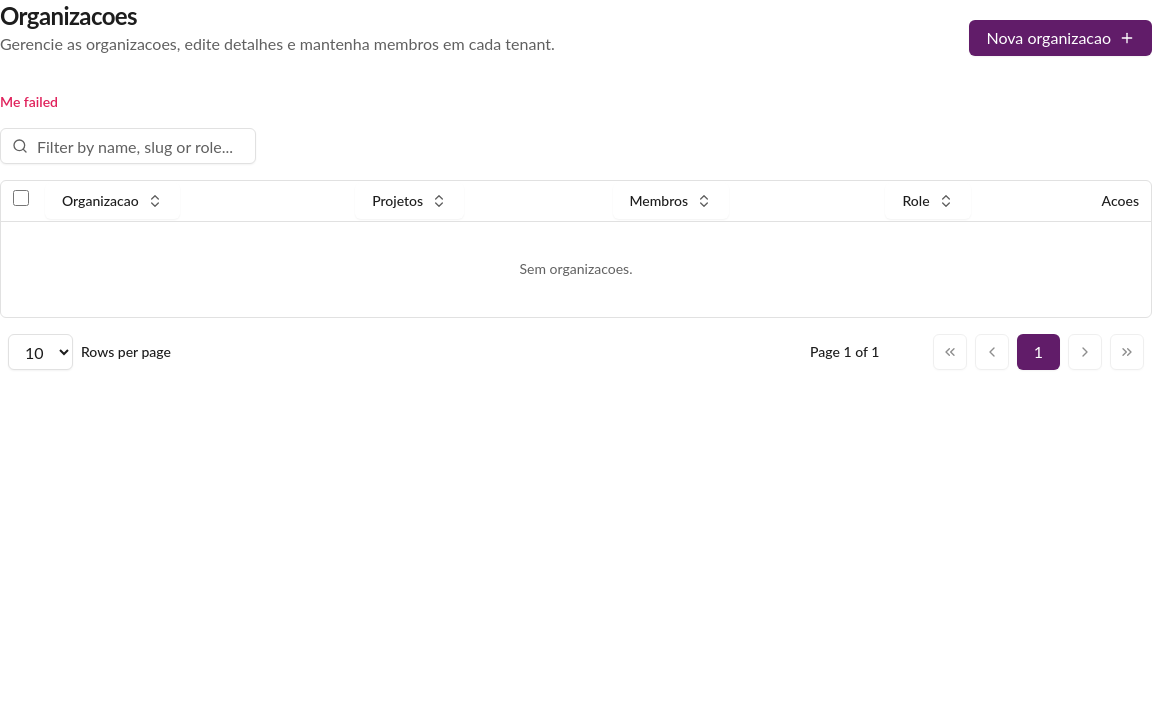
Test: Organizations pages › shows organization list query and create errors
expect the text "Me failed" is shown: met, box [0,93,58,110]
Step 1. Click the button "Nova organizacao" → (1061, 38), box [970,20,1151,56]
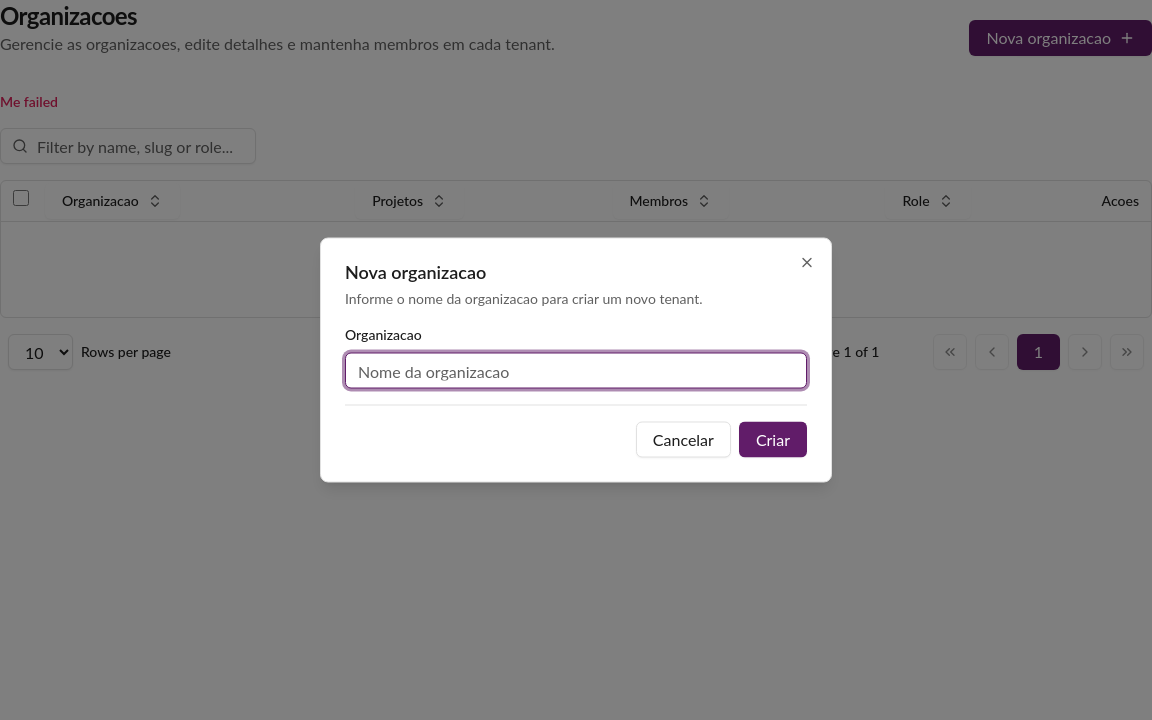
Step 2. Type "New Org" into the field labelled "Organizacao" → (576, 370), box [345,352,807,388]
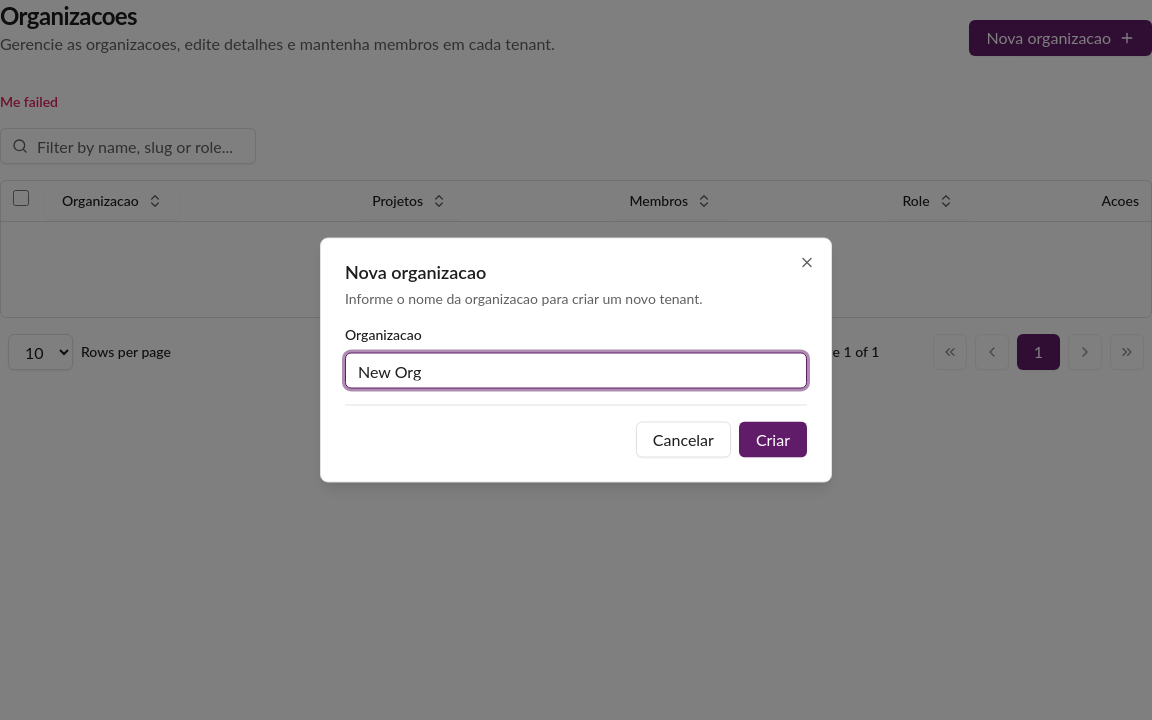
Step 3. Click the button "Criar" → (773, 440), box [739,422,807,458]
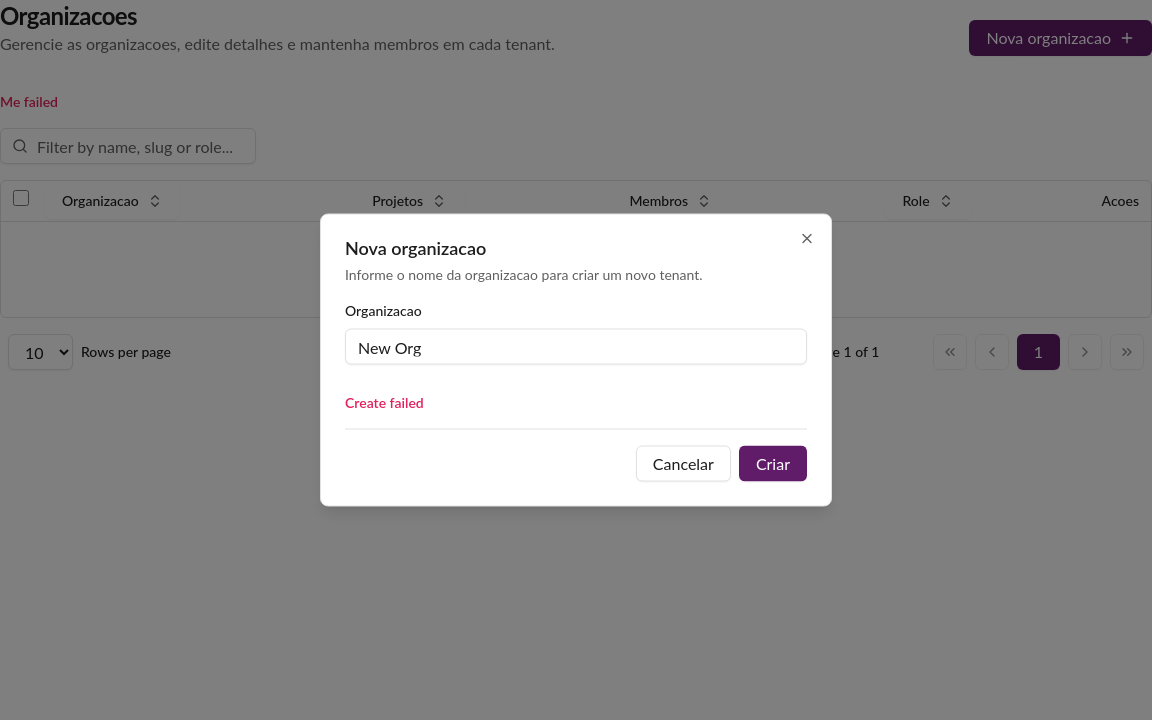
expect the text "Create failed" is shown: met, box [345,394,424,410]
